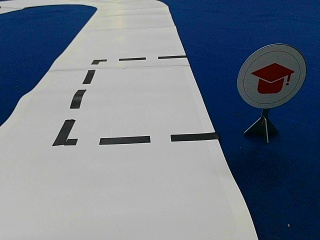school: (237, 44, 303, 106)
